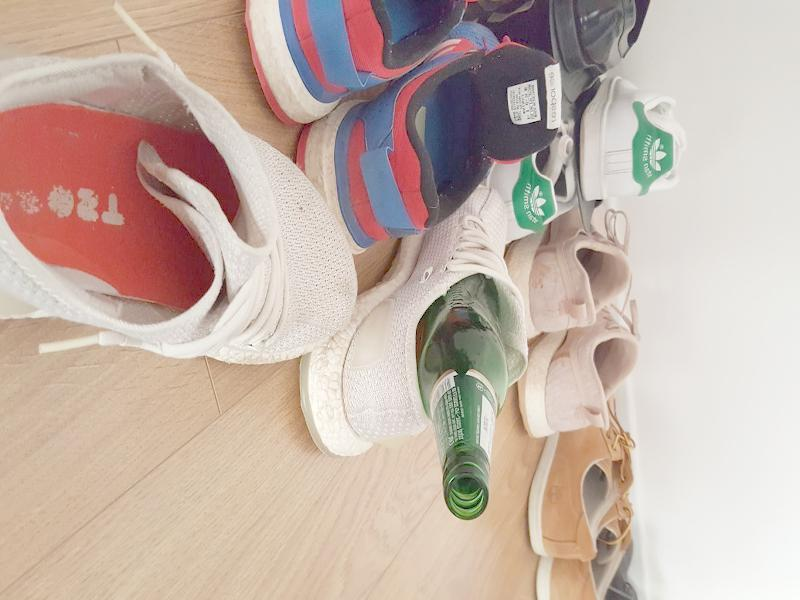Beer: (416, 273, 505, 520)
